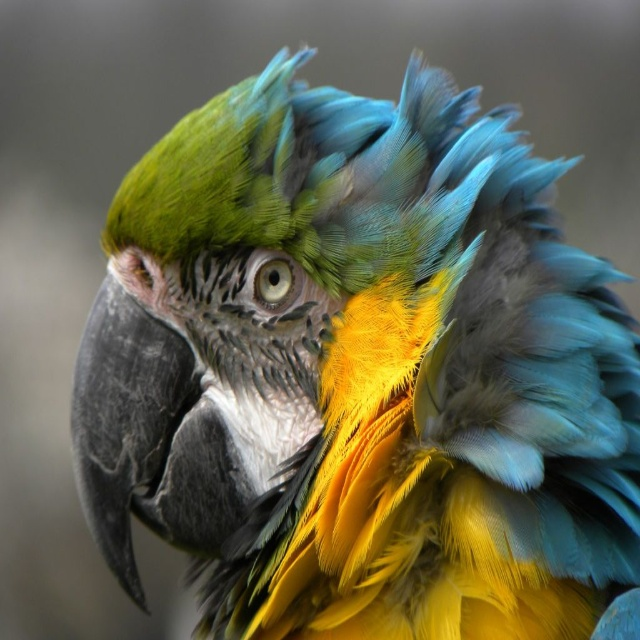Parrot: (63, 39, 639, 639)
